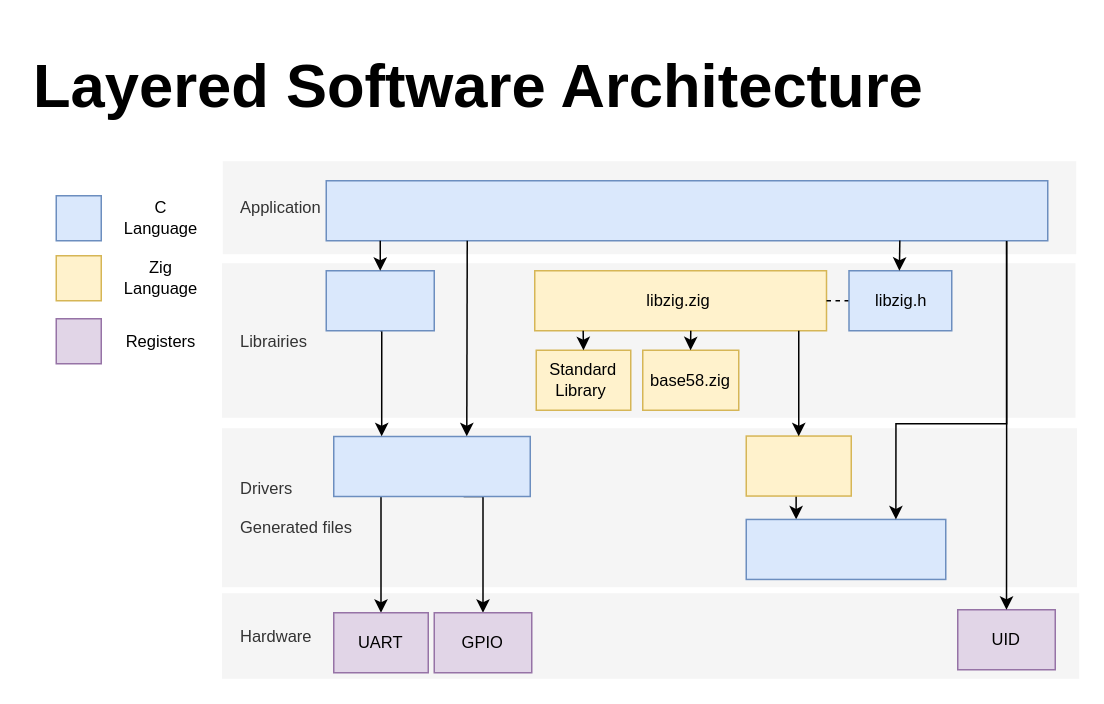
Image size: 1104x704. Some labels were removed from this diagram. The centre of each missing label's shape, as x and y in pixels:
app.c: (686,210)
Cmake C headers: (845,548)
HAL drivers: (431,465)
log.h: (379,300)
translate.zig: (798,465)
